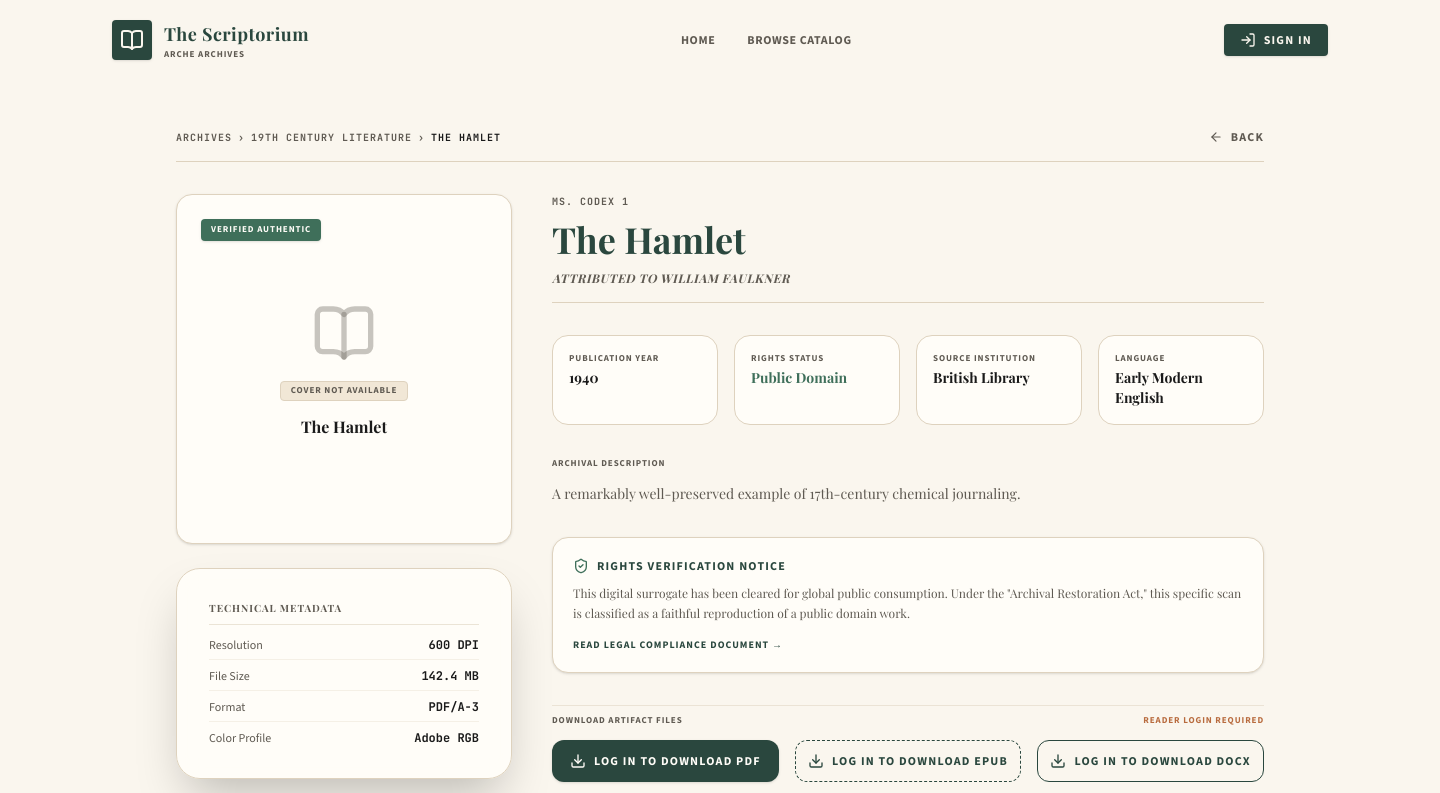
Test: Arche Archives App & Public Routes Tests › Visitor clicking download redirects to /login
Click the button "Log in to download PDF" at (665, 761), box [552,740,779,782]
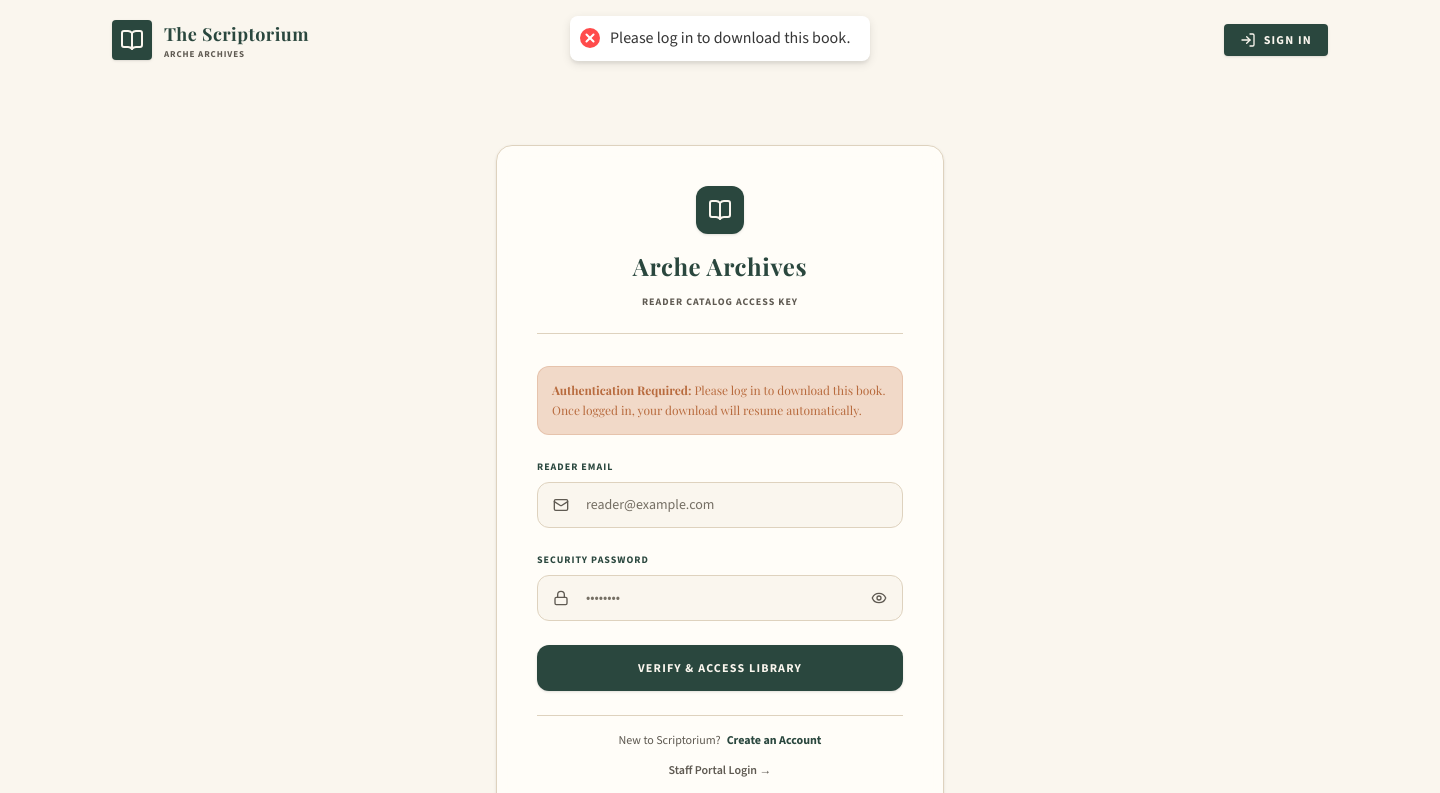
Check: the button "Verify & Access Library" is shown, box [537,645,903,691]
